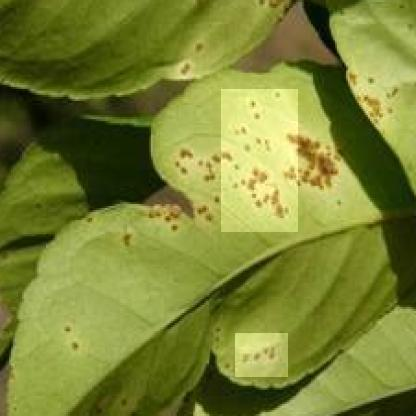black-spot: (221, 89, 298, 232), (235, 333, 288, 377)
